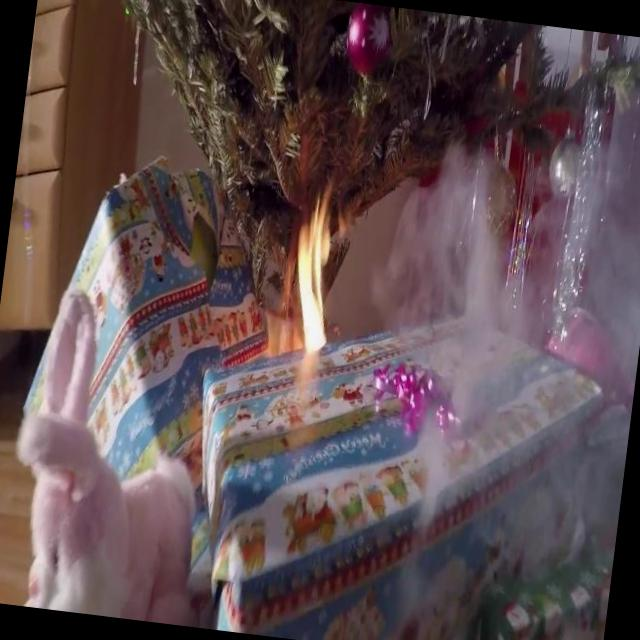smoke: (426, 215, 640, 520)
